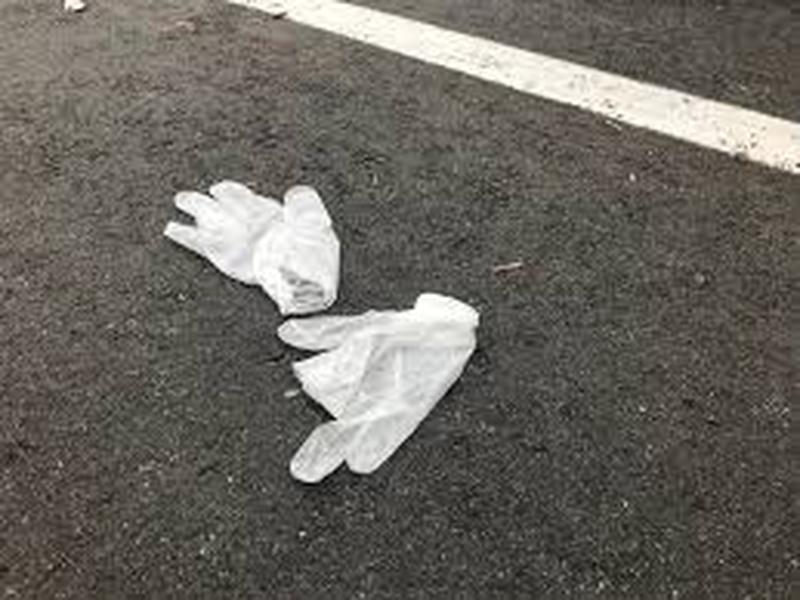gloves: (270, 293, 495, 489), (155, 175, 346, 316)
